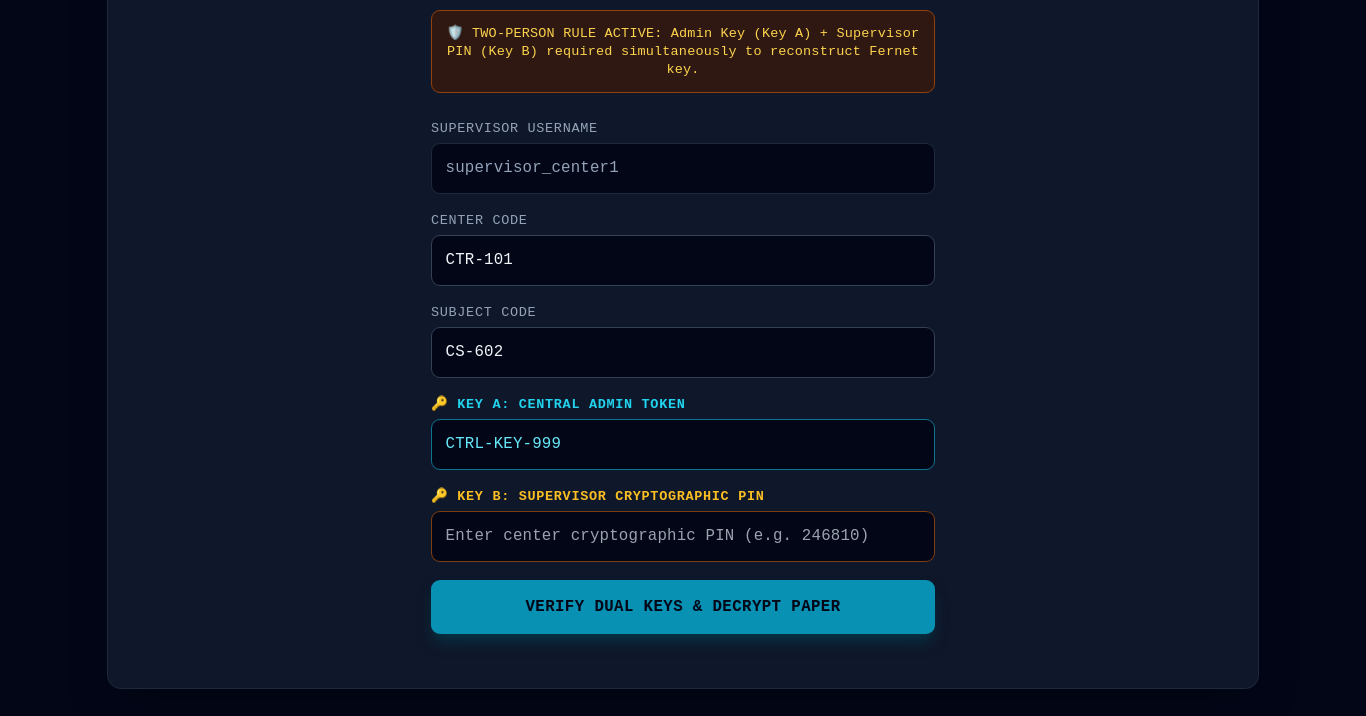
Scenario: SupervisorTerminal Component › decrypts paper upon submitting dual keys
The width and height of the screenshot is (1366, 716).
(page scrolled)
Type "246810" into the password field labelled "🔑 Key B: Supervisor Cryptographic PIN". click: point(683, 536)
box: top-left (431, 511), bottom-right (935, 562)
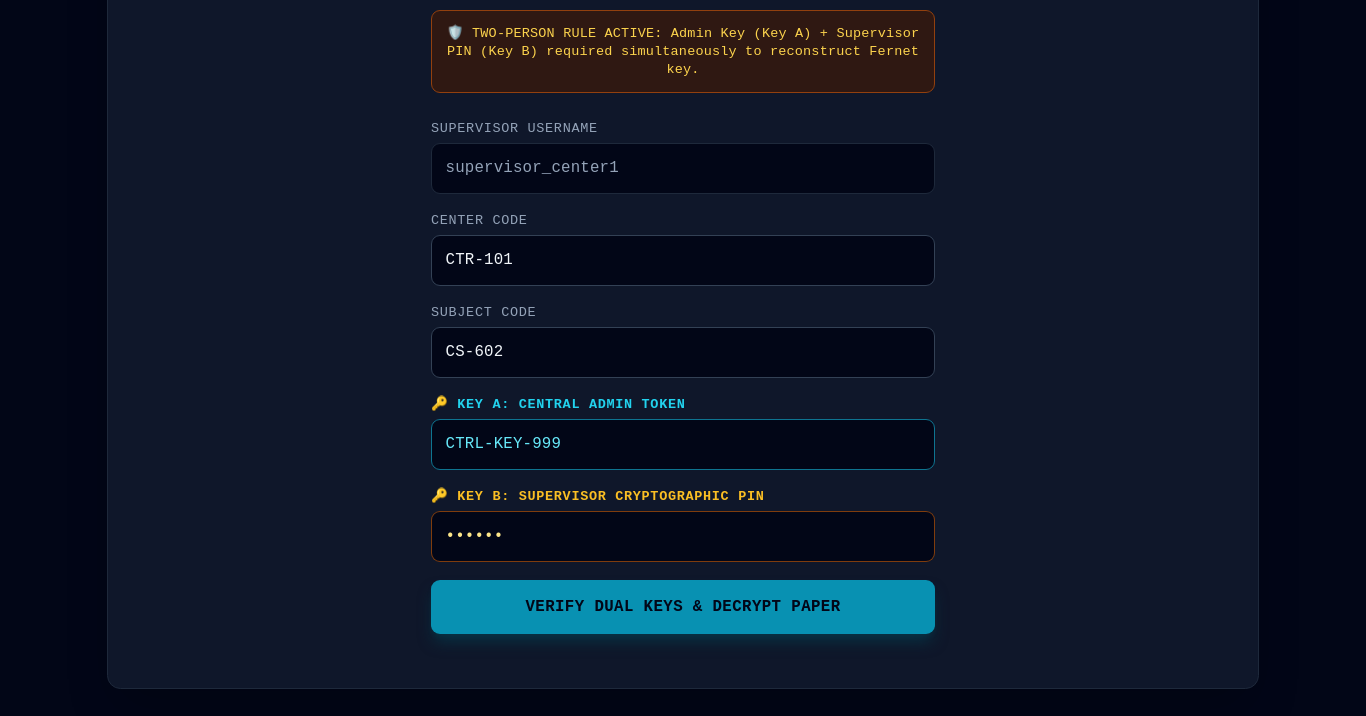
Submit the form named "supervisor cryptographic pin", box top-left (431, 120), bottom-right (935, 634)
(page scrolled)
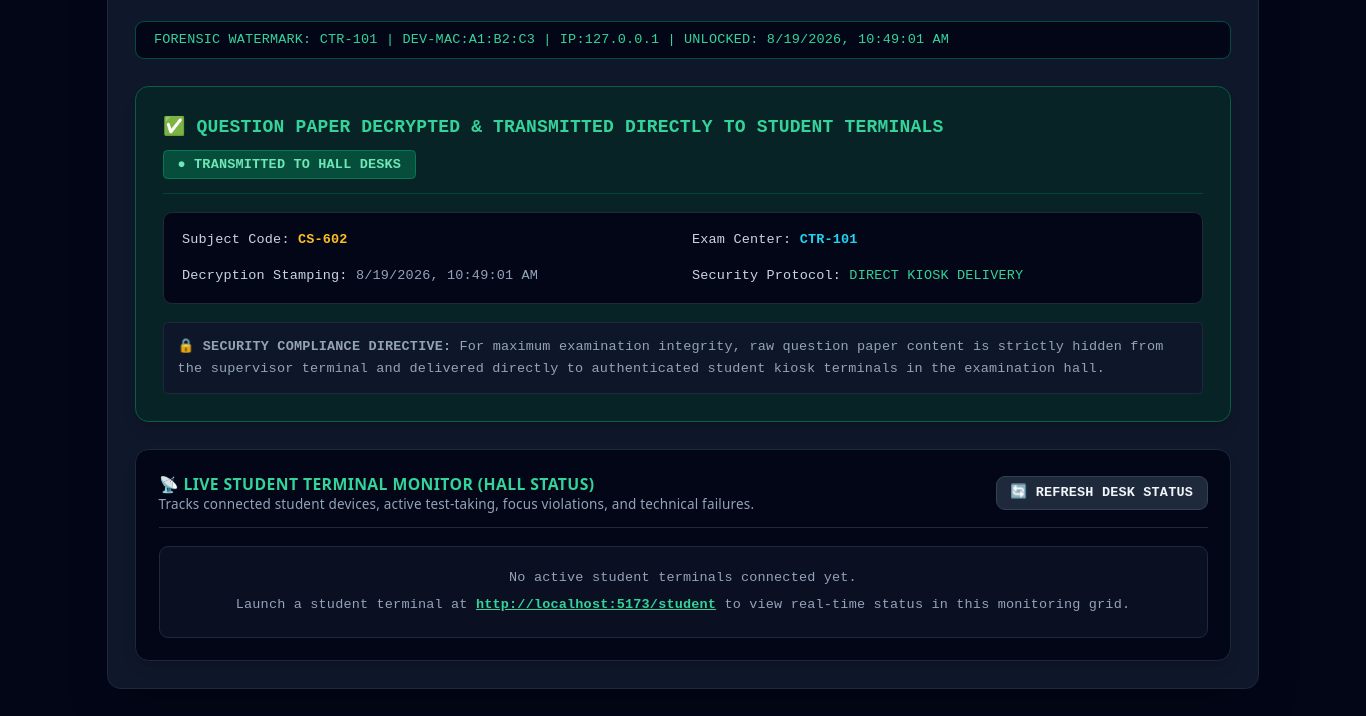
expect the text "QUESTION PAPER DECRYPTED & TRANSMITTED DIRECTLY TO STUDENT TERMINALS" is shown: met, box top-left (163, 117), bottom-right (943, 137)
expect the text "FORENSIC WATERMARK:" is shown: met, box top-left (154, 32), bottom-right (320, 47)
